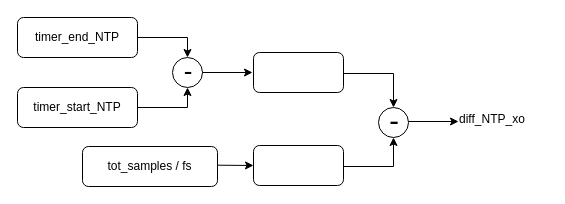
Some shapes in this 565 by 204 pixel diagram are drawn without their labels. The centre of each missing label's shape, as x and y in pixels:
"timer_NTP" goes at [298,72].
"timer_xo" goes at [298,165].
